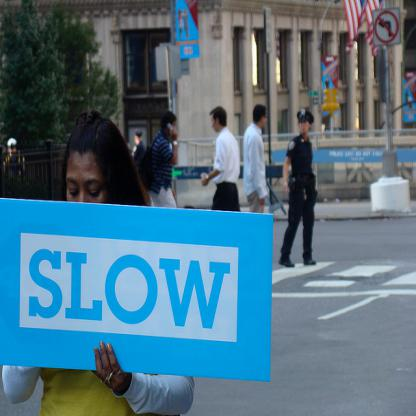backpack: (138, 134, 163, 191)
